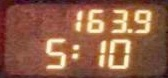-: (125, 27, 132, 32)
0: (105, 38, 131, 69)
1: (96, 38, 105, 67), (73, 9, 82, 32)
3: (109, 8, 128, 33)
5: (42, 38, 66, 69)
6: (84, 8, 104, 33)
9: (132, 9, 151, 33)
X: (69, 43, 80, 59)
